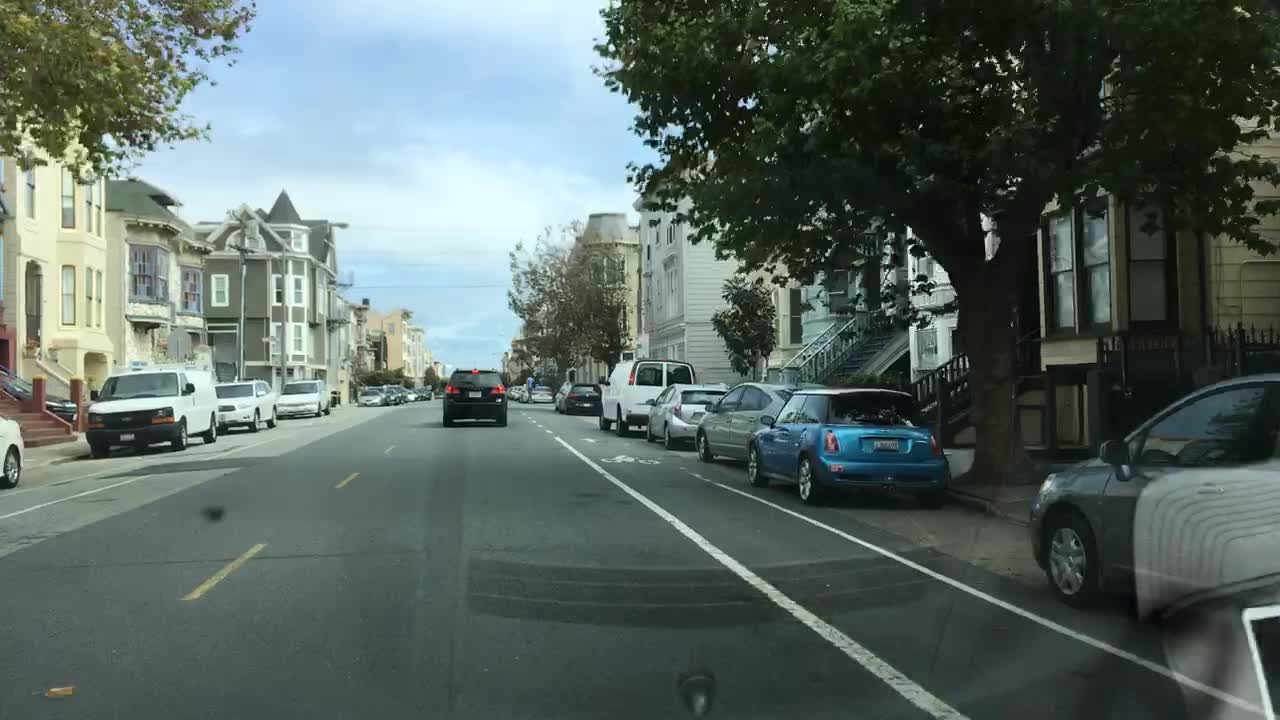car: (1029, 374, 1277, 606), (751, 388, 955, 511), (84, 369, 219, 456), (693, 383, 821, 456), (597, 358, 693, 432), (645, 384, 731, 445), (1, 366, 77, 425), (440, 366, 510, 426), (217, 380, 277, 431), (272, 380, 328, 415), (0, 416, 26, 482), (556, 383, 601, 410), (359, 386, 383, 408), (531, 384, 551, 404), (381, 386, 398, 403), (396, 386, 411, 401), (415, 386, 430, 400), (510, 383, 517, 398), (519, 386, 527, 399)
